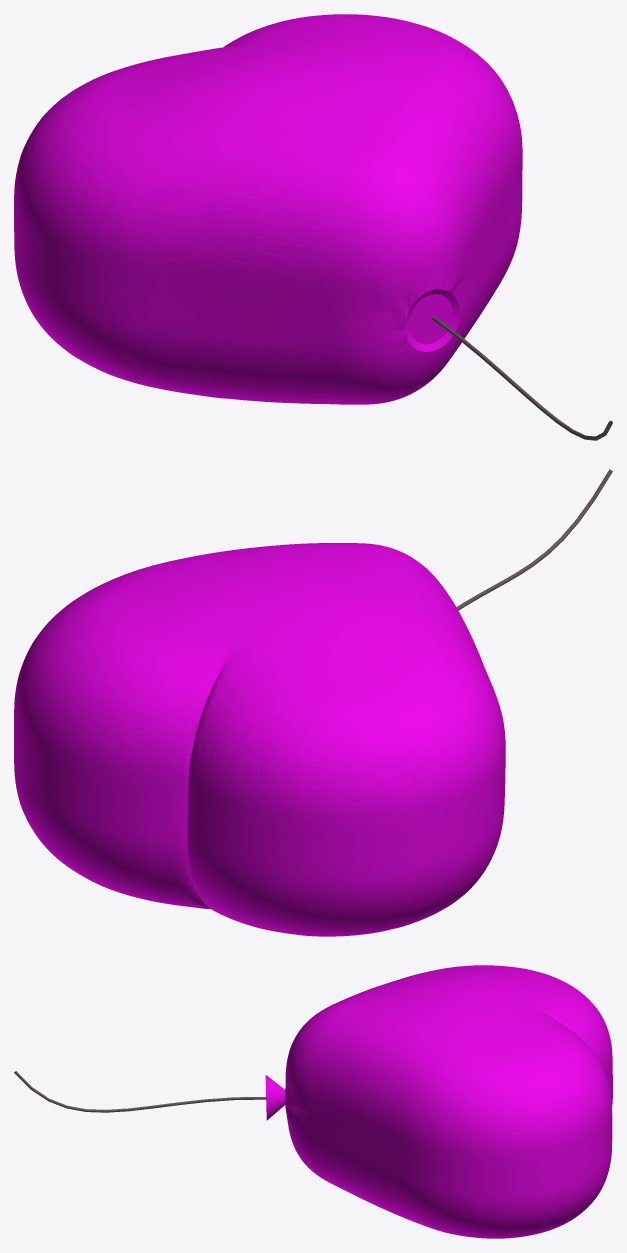
The model's file is loco_3_balloon1.glb.
3 renders of one model, top to bottom at view 1: azimuth 30°, elevation 25°; view 2: azimuth 150°, elevation 25°; view 3: azimuth 270°, elevation 25°, orthographic. The views are drawn at different scales.
Parts seen in each view (by area): view 1: Curve.001, 원뿔.002, BézierCurve.002; view 2: Curve.001, BézierCurve.002; view 3: Curve.001, BézierCurve.002, 원뿔.002.
Boxes of the visible parts, x1,y1,x2,y2 form: Curve.001: (14, 14, 522, 404); 원뿔.002: (405, 289, 460, 351); BézierCurve.002: (432, 316, 612, 440); Curve.001: (14, 543, 505, 936); BézierCurve.002: (456, 469, 612, 610); Curve.001: (284, 965, 612, 1238); BézierCurve.002: (14, 1071, 265, 1112); 원뿔.002: (265, 1075, 285, 1120).
Size of the model in its own units: 1.21 by 0.7424 by 2.
